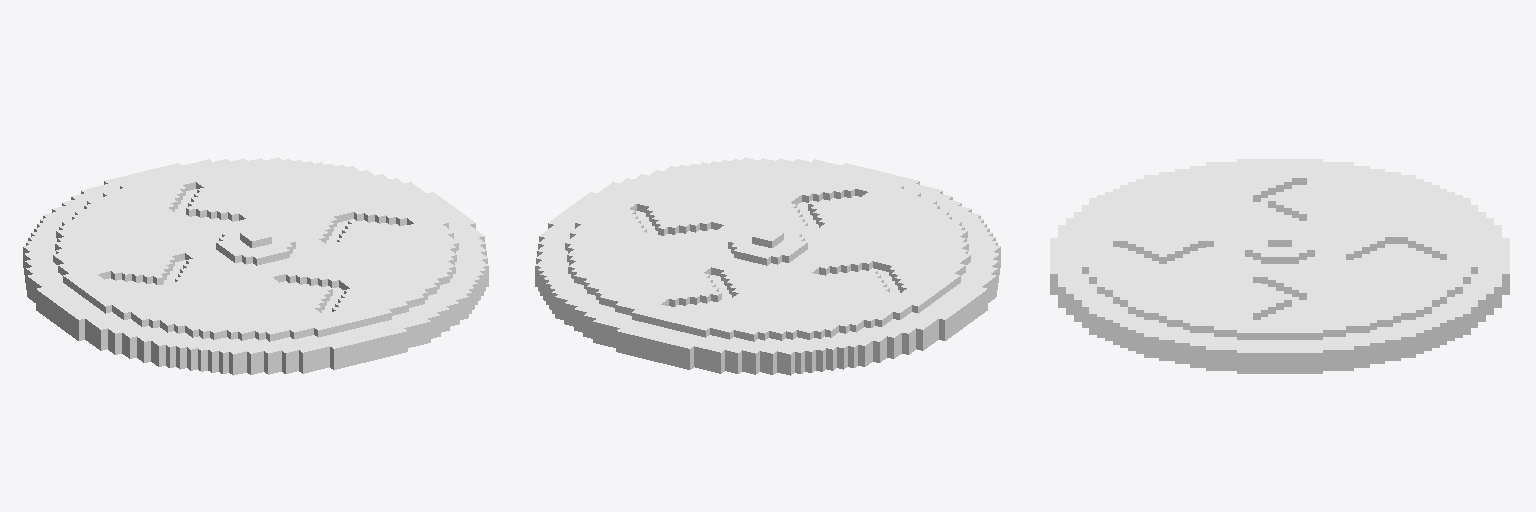
File: giratori.obj
3 renders of one model, left to right at view 1: azimuth 30°, elevation 25°; view 2: azimuth 150°, elevation 25°; view 3: azimuth 270°, elevation 25°, orthographic.
Parts seen in each view (by area): view 1: object 1; view 2: object 1; view 3: object 1.
Part boxes in pixels (left/top/right/bottom): object 1: left=23, top=157, right=488, bottom=375; object 1: left=535, top=157, right=1000, bottom=375; object 1: left=1050, top=159, right=1509, bottom=373.
Bounding box in the file's own units: 5.9 × 0.6 × 5.9.